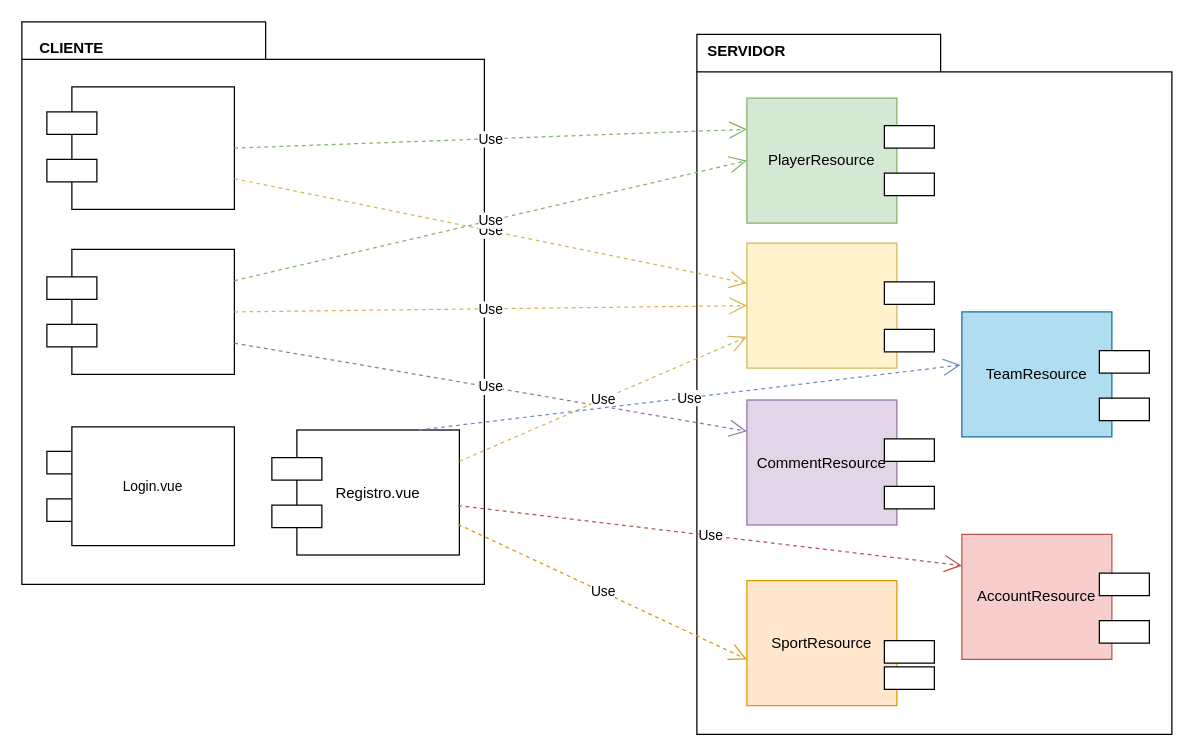
Image size: 1194x756. Some labels were removed from this diagram. Each missing label, with the box of its shape:
Home.vue: (71, 86, 234, 209)
MenuBar.vue: (71, 248, 234, 374)
UserResource: (746, 242, 897, 368)
